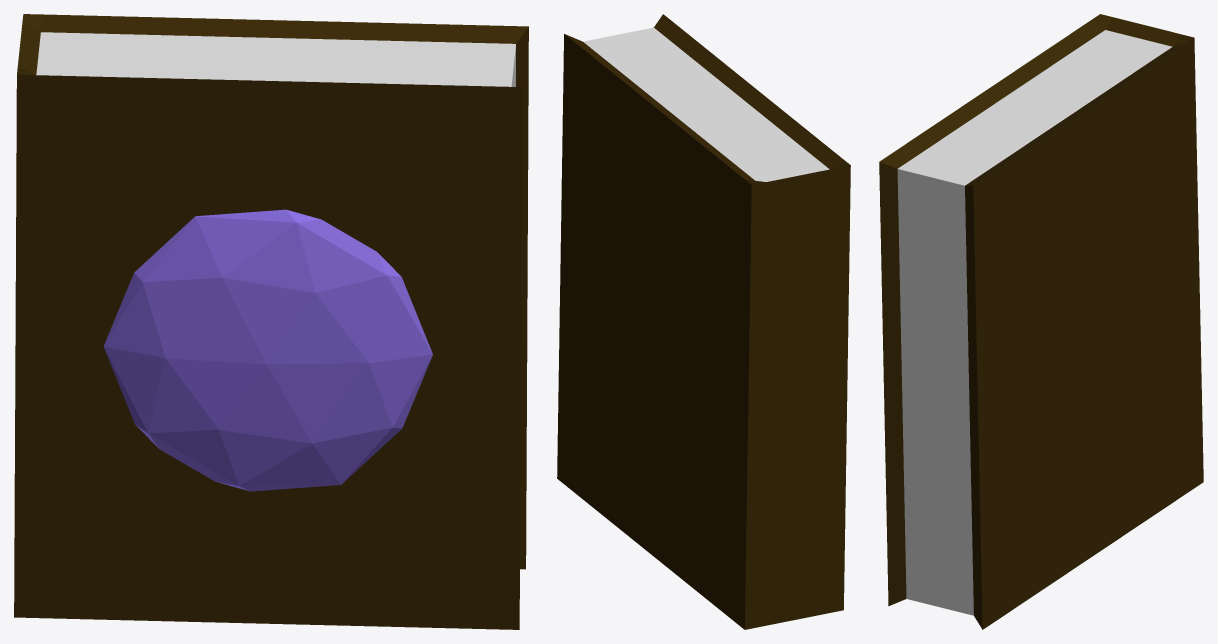
Rendered from boltspell.fbx.
3 views of the same model, side by side, from view 1: azimuth 30°, elevation 25°; view 2: azimuth 150°, elevation 25°; view 3: azimuth 270°, elevation 25° (orthographic). The views are drawn at different scales.
Parts seen in each view (by area): view 1: Cube.001; view 2: Cube.001; view 3: Cube.001.
Boxes of the visible parts, x1,y1,x2,y2 form: Cube.001: [14, 14, 528, 629]; Cube.001: [557, 14, 850, 629]; Cube.001: [879, 14, 1203, 629].
Size of the model in its own units: 2985 by 3611 by 2374.
